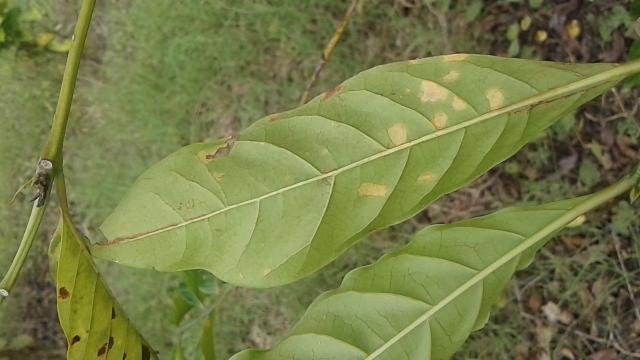rust_level_2: (84, 54, 630, 286)
